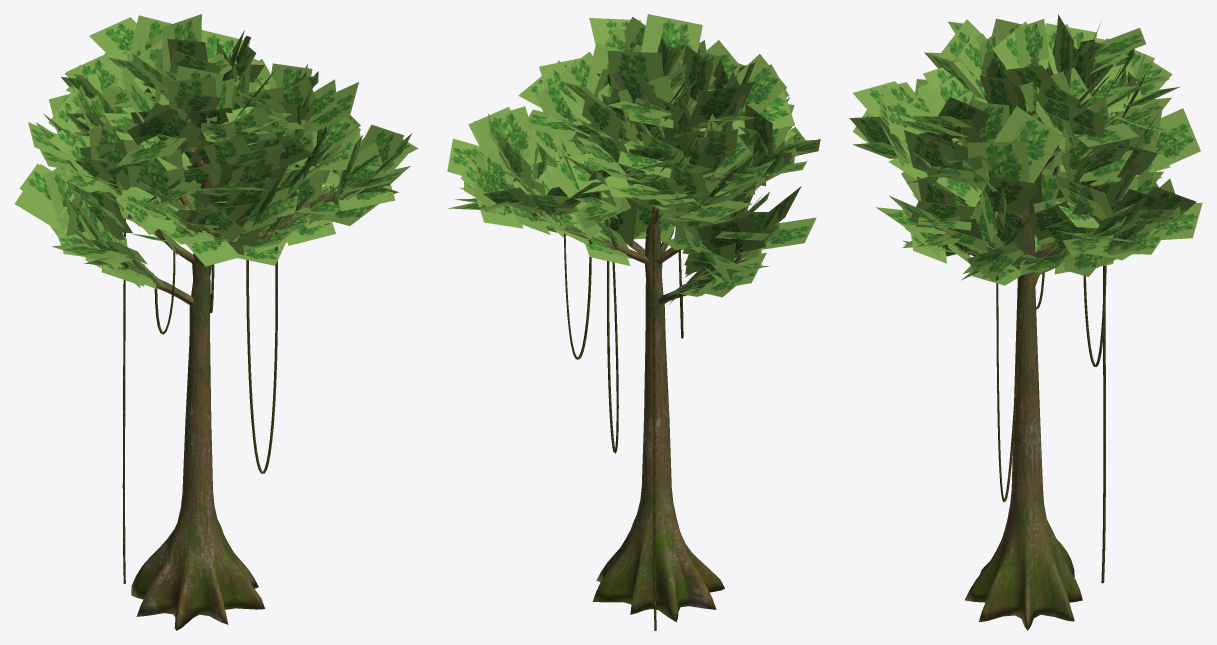
The model's file is sb_obj_nature010_Jungles01a.fbx.
3 renders of one model, left to right at view 1: azimuth 30°, elevation 25°; view 2: azimuth 150°, elevation 25°; view 3: azimuth 270°, elevation 25°, orthographic. The views are drawn at different scales.
Parts seen in each view (by area): view 1: leaf01a, sb_obj_nature010_Jungles01a, ivy01a; view 2: leaf01a, sb_obj_nature010_Jungles01a, ivy01a; view 3: leaf01a, sb_obj_nature010_Jungles01a, ivy01a.
Boxes of the visible parts, left/top/right/bottom form: leaf01a: left=14, top=14, right=418, bottom=288; sb_obj_nature010_Jungles01a: left=70, top=87, right=356, bottom=630; ivy01a: left=122, top=218, right=277, bottom=583; leaf01a: left=447, top=14, right=820, bottom=304; sb_obj_nature010_Jungles01a: left=511, top=97, right=754, bottom=621; ivy01a: left=564, top=185, right=683, bottom=630; leaf01a: left=849, top=14, right=1202, bottom=285; sb_obj_nature010_Jungles01a: left=905, top=88, right=1129, bottom=630; ivy01a: left=996, top=265, right=1106, bottom=583.
Size of the model in its own units: 4.26 by 7.07 by 3.92.
